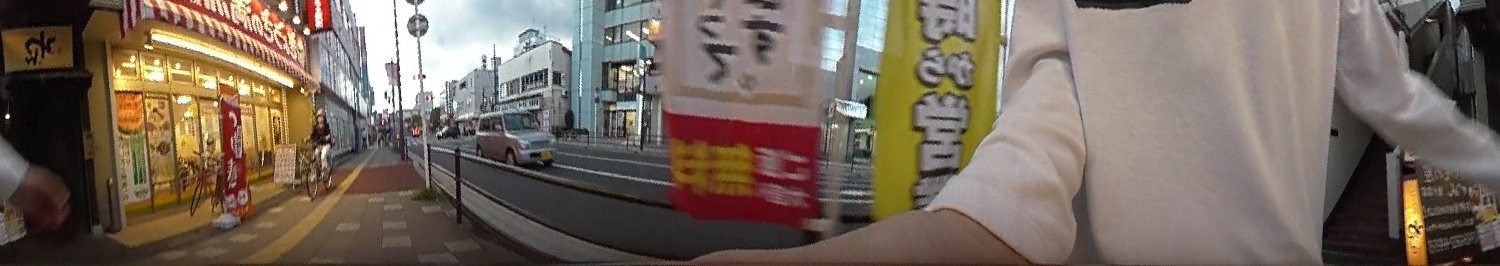person: (300, 104, 336, 185)
